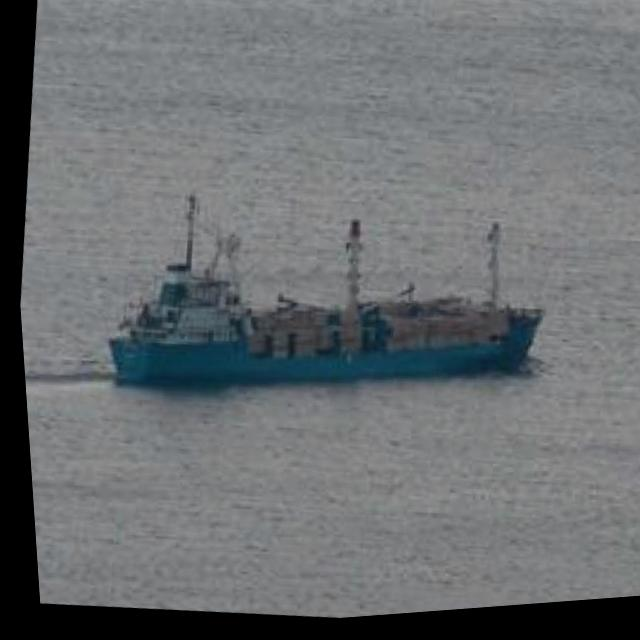ship2: (103, 202, 538, 391)
